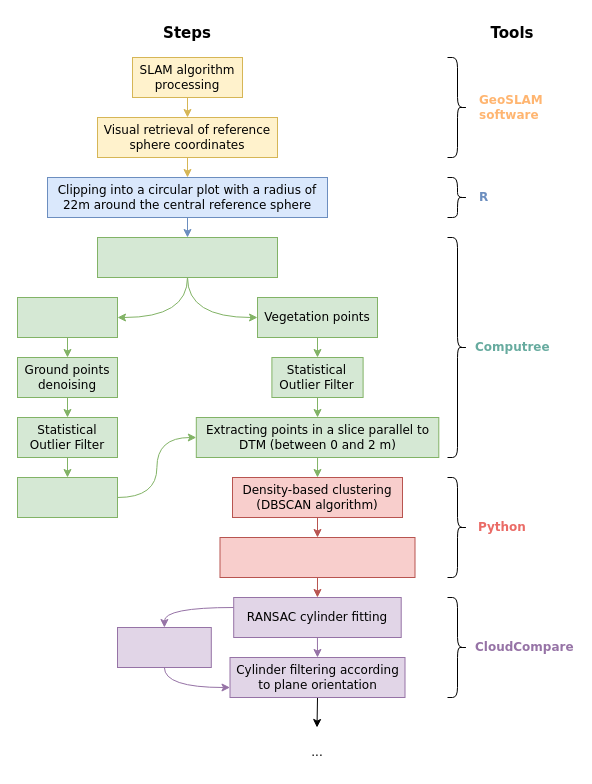
This 592x784 diagram has some shape labels left out. The shapes that lost their labels are listed below. From the top down, each one's centre as x and y in pixels, then its label:
At point (187, 257): "Ground points classification".
At point (67, 317): "Ground points".
At point (67, 497): "DTM creation".
At point (317, 557): "Filtering based on the number of points per cluster".
At point (163, 647): "Plane fitting".
